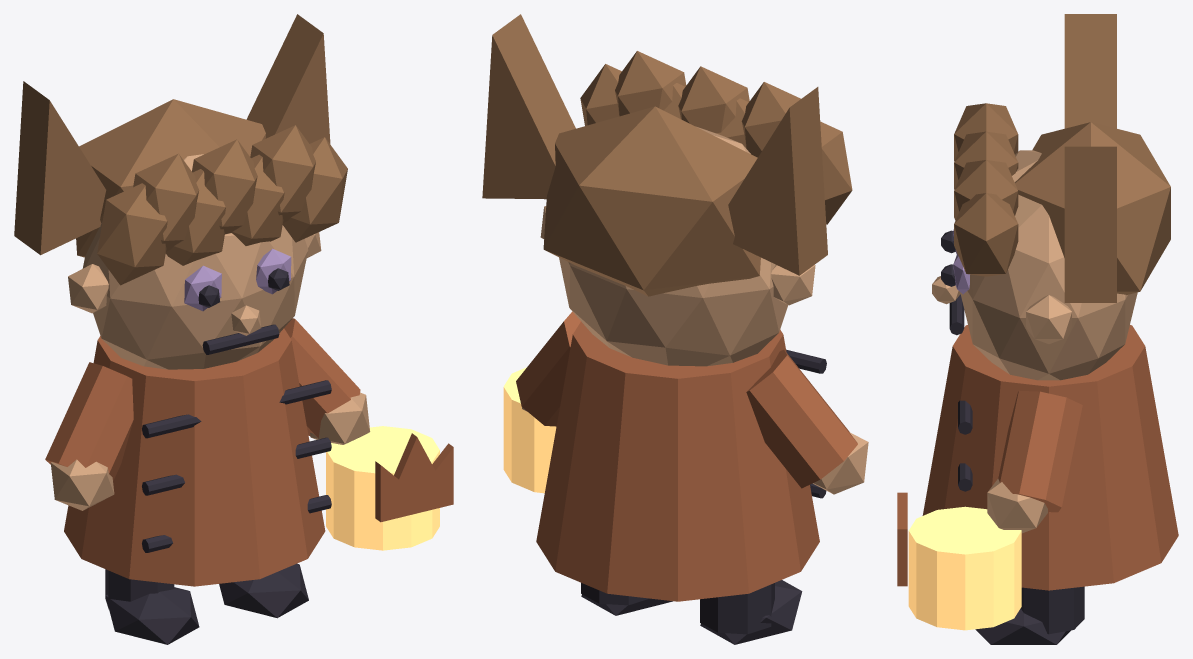
Rendered from ryan-maple-werewolf.glb.
3 renders of one model, left to right at view 1: azimuth 30°, elevation 25°; view 2: azimuth 150°, elevation 25°; view 3: azimuth 270°, elevation 25°, orthographic. The views are drawn at different scales.
Visible parts, largest first — view 1: Costume torso.007, Hair cap.007, Head.007, Boot leg.005, Maple lantern.001, Eye white.005; view 2: Costume torso.007, Hair cap.007, Head.007, Boot leg.005, Maple lantern.001; view 3: Costume torso.007, Hair cap.007, Head.007, Maple lantern.001, Boot leg.005, Eye white.005.
Boxes of the visible parts, bbox=[...] form: Costume torso.007: bbox=[45, 318, 453, 586]; Hair cap.007: bbox=[14, 14, 347, 285]; Head.007: bbox=[50, 154, 370, 510]; Boot leg.005: bbox=[105, 268, 331, 644]; Maple lantern.001: bbox=[326, 426, 439, 550]; Eye white.005: bbox=[184, 248, 291, 311]; Costume torso.007: bbox=[516, 311, 857, 601]; Hair cap.007: bbox=[482, 14, 852, 296]; Head.007: bbox=[522, 126, 868, 494]; Boot leg.005: bbox=[581, 349, 826, 644]; Maple lantern.001: bbox=[503, 367, 556, 493]; Costume torso.007: bbox=[897, 325, 1178, 590]; Hair cap.007: bbox=[954, 14, 1170, 302]; Head.007: bbox=[932, 150, 1137, 533]; Maple lantern.001: bbox=[908, 506, 1021, 630]; Boot leg.005: bbox=[941, 230, 1084, 644]; Eye white.005: bbox=[953, 229, 969, 294].
Bounding box in the file's own units: 0.0192 × 0.0283 × 0.0135.
